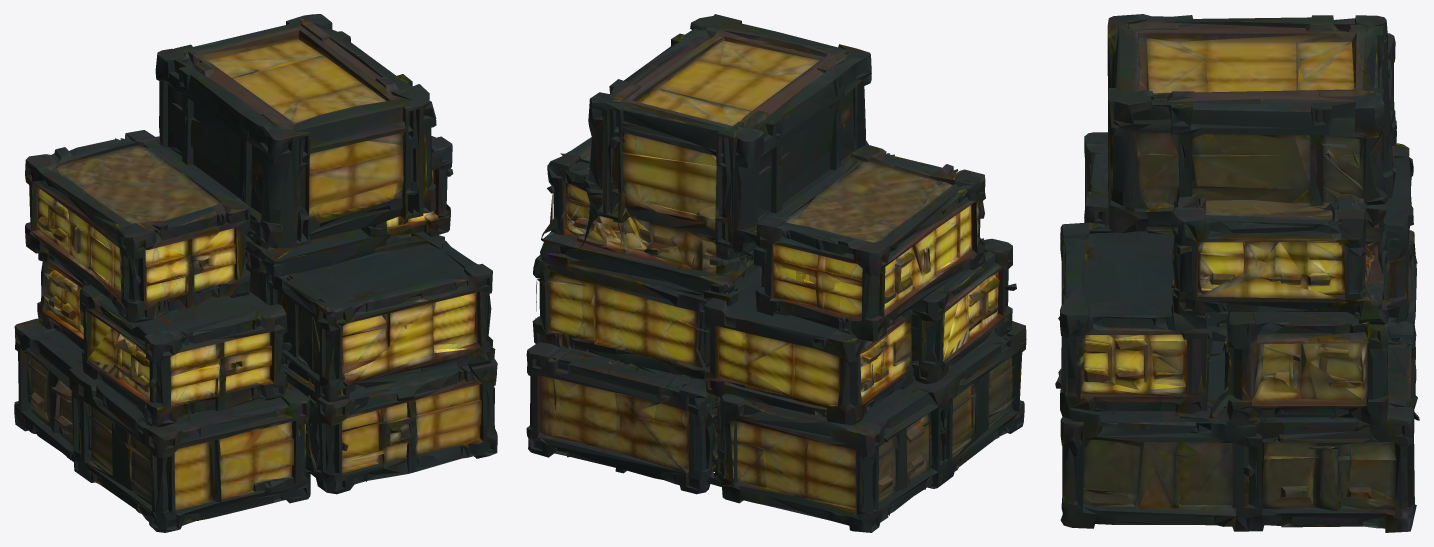
File: mx_wz_ammo.glb
3 views of the same model, side by side, from view 1: azimuth 30°, elevation 25°; view 2: azimuth 150°, elevation 25°; view 3: azimuth 270°, elevation 25° (orthographic). The views are drawn at different scales.
Size of the model in its own units: 1.9 by 1.81 by 1.48.
Materials: 1 (1 with a texture image).
